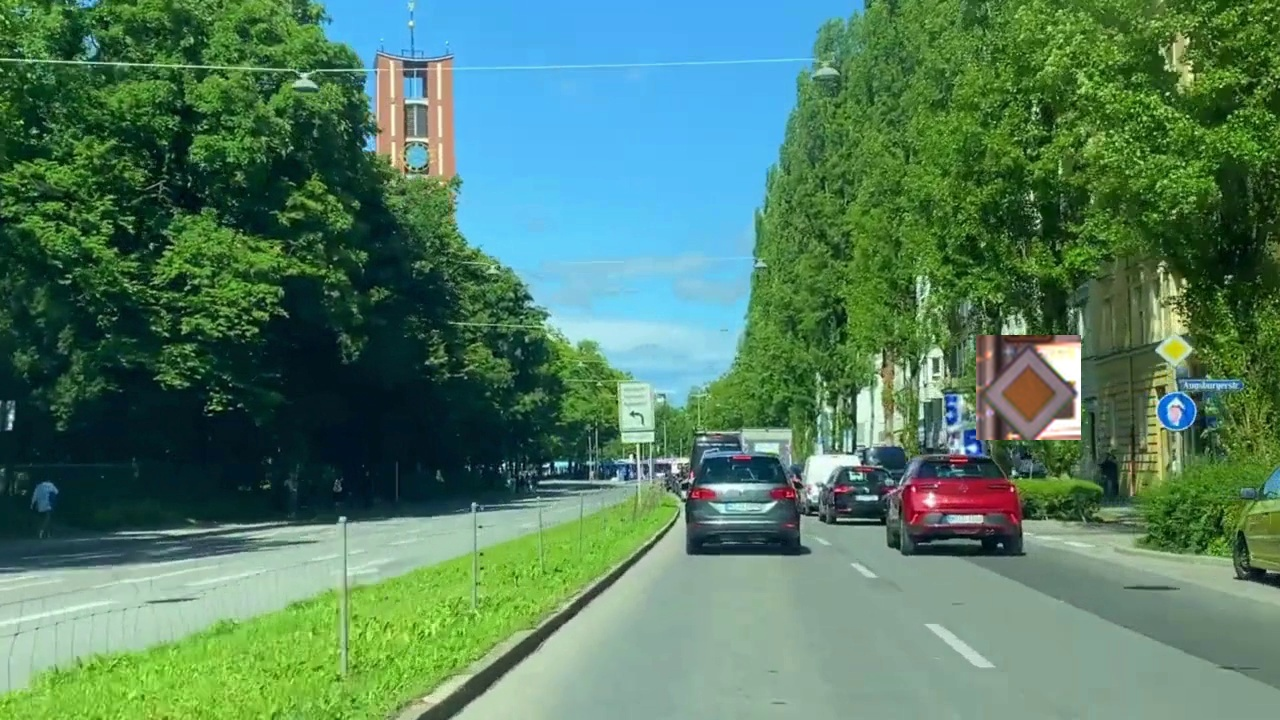Priority road: (976, 335, 1081, 440)
